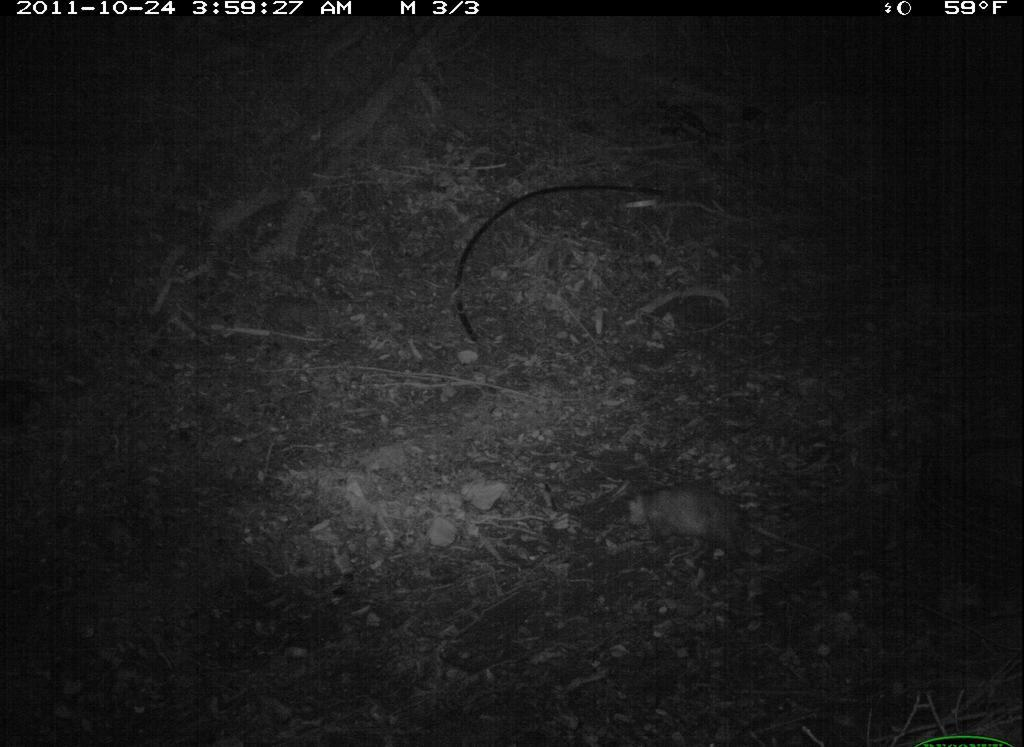opossum: (613, 479, 799, 593)
